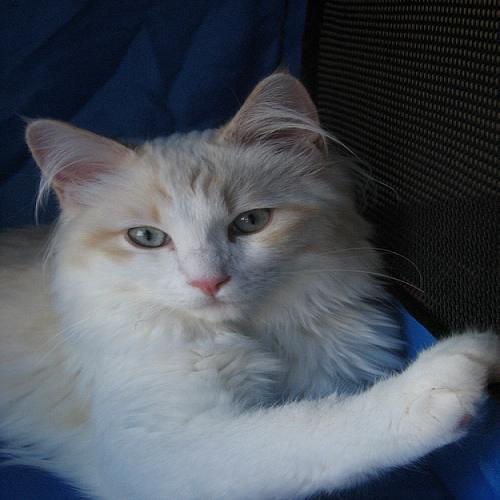ragdoll: (20, 71, 363, 331)
